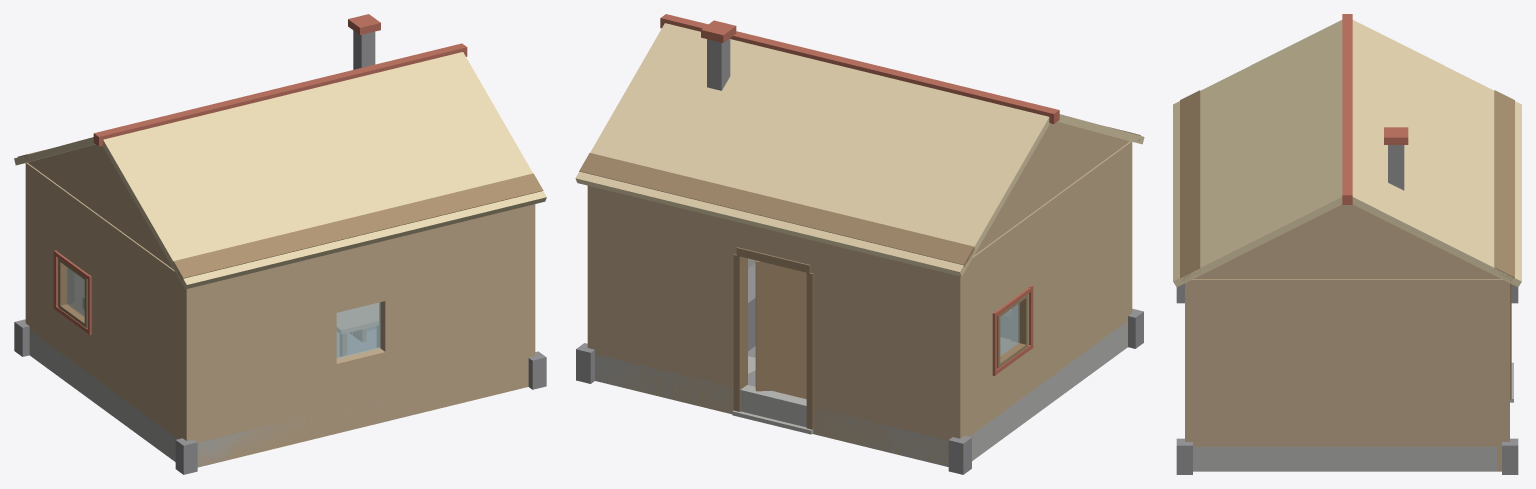
The model's file is 18-Casas_casa_choza_ampliada.glb.
3 renders of one model, left to right at view 1: azimuth 30°, elevation 25°; view 2: azimuth 150°, elevation 25°; view 3: azimuth 270°, elevation 25°, orthographic. The views are drawn at different scales.
Visible parts, largest first — view 1: SM_Zocalo_M_Casa_Madera_Clara, SM_Zocalo_M_Casa_Acento_Casa_Paja_Clara_Casa_Paja_Oscura_Cas, SM_Zocalo_M_Casa_Piedra_Casa_Piedra_Oscura, SM_Zocalo_M_Casa_Vidrio, SM_Zocalo_M_Casa_Madera_Oscura_Casa_Acento, SM_Zocalo_M_Casa_Piedra_Oscura_Casa_Bronce_Casa_Llama_Casa_A, SM_Zocalo_M_Casa_Madera_Clara_Casa_Madera_Oscura, SM_Zocalo_M_Casa_Piedra_Oscura_Casa_Piedra; view 2: SM_Zocalo_M_Casa_Madera_Clara, SM_Zocalo_M_Casa_Acento_Casa_Paja_Clara_Casa_Paja_Oscura_Cas, SM_Zocalo_M_Casa_Piedra_Casa_Piedra_Oscura, SM_Zocalo_M_Casa_Madera_Oscura_Casa_Madera_Clara_Casa_Bronce, SM_Zocalo_M_Casa_Madera_Oscura_Casa_Piedra, SM_Zocalo_M_Casa_Madera_Oscura_Casa_Acento, SM_Zocalo_M_Casa_Piedra_Oscura_Casa_Bronce_Casa_Llama_Casa_A, SM_Zocalo_M_Casa_Vidrio; view 3: SM_Zocalo_M_Casa_Acento_Casa_Paja_Clara_Casa_Paja_Oscura_Cas, SM_Zocalo_M_Casa_Madera_Clara, SM_Zocalo_M_Casa_Piedra_Casa_Piedra_Oscura, SM_Zocalo_M_Casa_Piedra_Oscura_Casa_Bronce_Casa_Llama_Casa_A.
Boxes of the visible parts, x1,y1,x2,y2 form: SM_Zocalo_M_Casa_Madera_Clara: (25,162,535,467); SM_Zocalo_M_Casa_Acento_Casa_Paja_Clara_Casa_Paja_Oscura_Cas: (14,43,546,289); SM_Zocalo_M_Casa_Piedra_Casa_Piedra_Oscura: (14,319,546,474); SM_Zocalo_M_Casa_Vidrio: (66,267,380,358); SM_Zocalo_M_Casa_Madera_Oscura_Casa_Acento: (53,250,91,335); SM_Zocalo_M_Casa_Piedra_Oscura_Casa_Bronce_Casa_Llama_Casa_A: (348,14,380,334); SM_Zocalo_M_Casa_Madera_Clara_Casa_Madera_Oscura: (337,303,378,356); SM_Zocalo_M_Casa_Piedra_Oscura_Casa_Piedra: (337,329,376,357); SM_Zocalo_M_Casa_Madera_Clara: (587,141,1132,466); SM_Zocalo_M_Casa_Acento_Casa_Paja_Clara_Casa_Paja_Oscura_Cas: (575,14,1144,276); SM_Zocalo_M_Casa_Piedra_Casa_Piedra_Oscura: (576,258,1143,474); SM_Zocalo_M_Casa_Madera_Oscura_Casa_Madera_Clara_Casa_Bronce: (755,260,1010,399); SM_Zocalo_M_Casa_Madera_Oscura_Casa_Piedra: (732,247,813,434); SM_Zocalo_M_Casa_Madera_Oscura_Casa_Acento: (992,285,1033,375); SM_Zocalo_M_Casa_Piedra_Oscura_Casa_Bronce_Casa_Llama_Casa_A: (701,20,755,351); SM_Zocalo_M_Casa_Vidrio: (1000,303,1019,356); SM_Zocalo_M_Casa_Acento_Casa_Paja_Clara_Casa_Paja_Oscura_Cas: (1173,14,1521,287); SM_Zocalo_M_Casa_Madera_Clara: (1185,279,1509,471); SM_Zocalo_M_Casa_Piedra_Casa_Piedra_Oscura: (1176,283,1518,474); SM_Zocalo_M_Casa_Piedra_Oscura_Casa_Bronce_Casa_Llama_Casa_A: (1384,127,1408,190).
Bounding box in the file's own units: 5.28 × 4.16 × 4.29.
